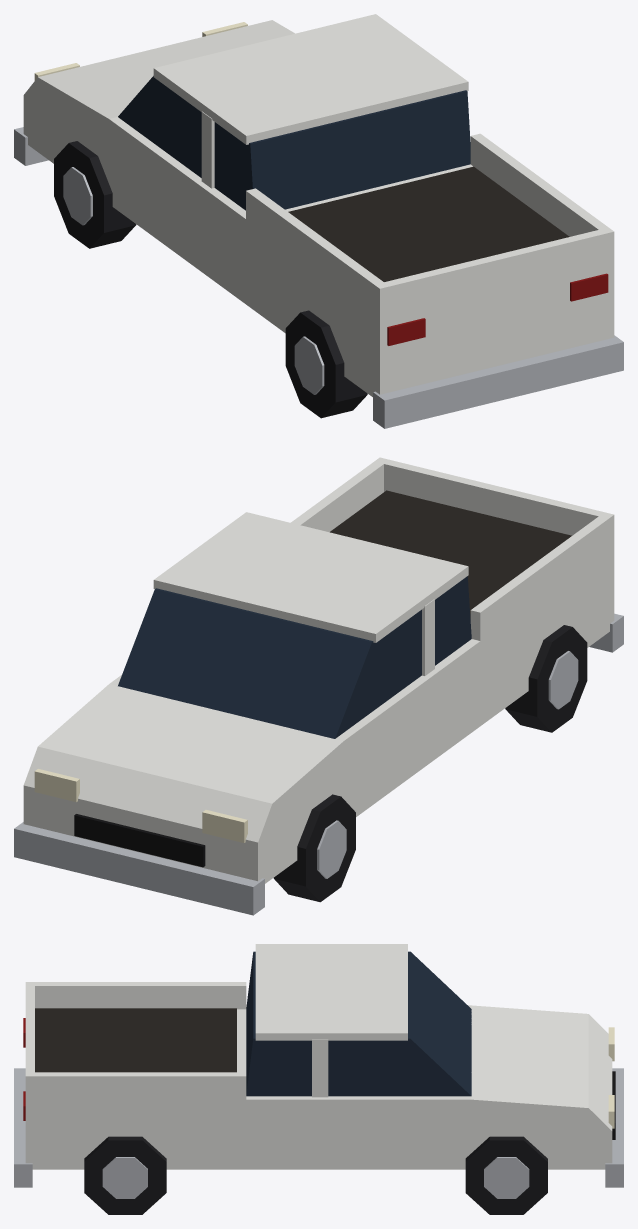
File: CarPickupWhite.obj
3 views of the same model, one above another, from view 1: azimuth 30°, elevation 25°; view 2: azimuth 150°, elevation 25°; view 3: azimuth 270°, elevation 25° (orthographic). The views are drawn at different scales.
Parts seen in each view (by area): view 1: CarPickupWhite; view 2: CarPickupWhite; view 3: CarPickupWhite.
Boxes of the visible parts, x1,y1,x2,y2 form: CarPickupWhite: (14,14,623,428); CarPickupWhite: (14,457,623,915); CarPickupWhite: (14,944,623,1214).
Size of the model in its own units: 2.07 by 1.65 by 5.2.
Materials: 1 (1 with a texture image).
